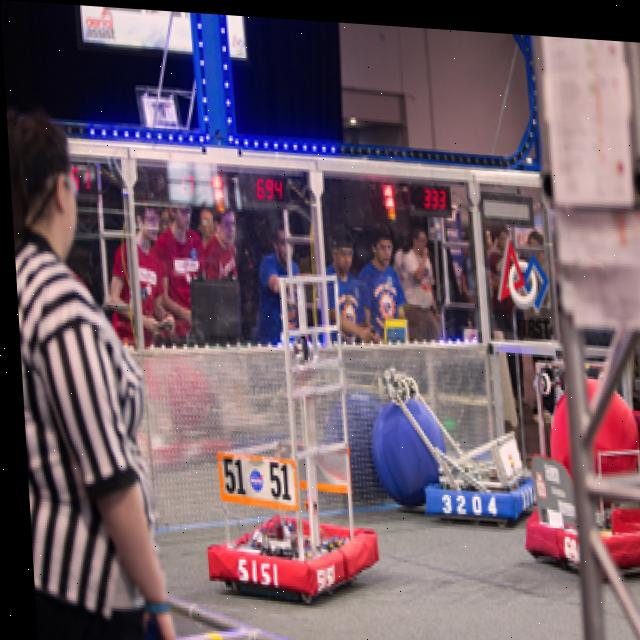robot: (181, 201, 376, 601), (510, 370, 640, 569), (377, 360, 537, 520)
